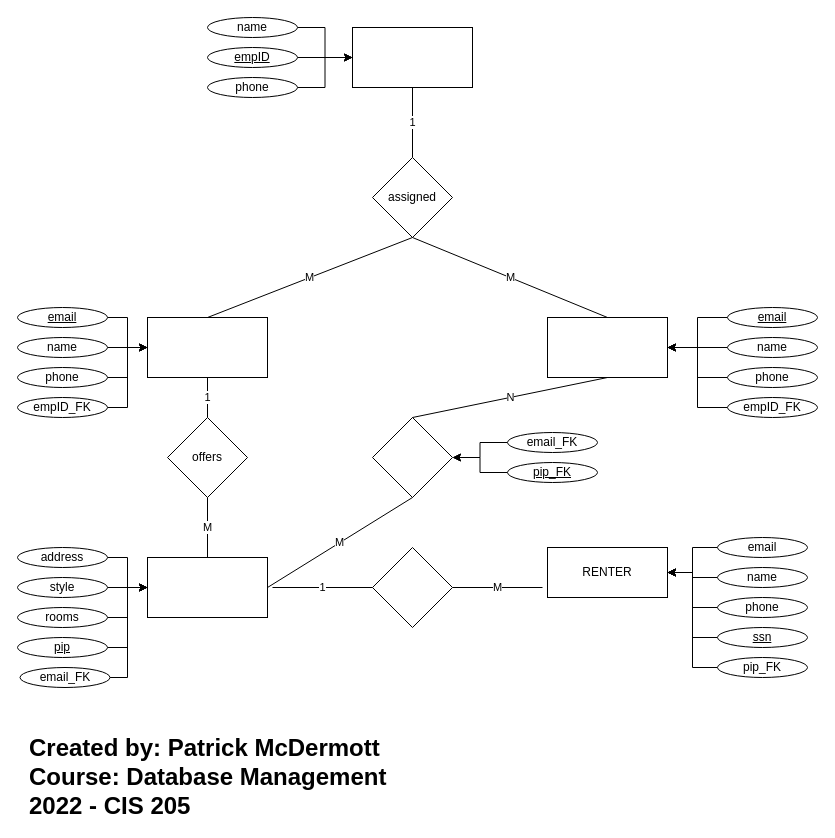
Image size: 835x838. Some labels were removed from this diagram. The shapes that lost their labels are listed below. From the top down, each one's centre as x and y in pixels, then its label:
At [412,57]: "AGENT".
At [207,347]: "SELLER".
At [607,347]: "BUYER".
At [412,457]: "reviews".
At [207,587]: "PROPERTY".
At [412,587]: "rent".
